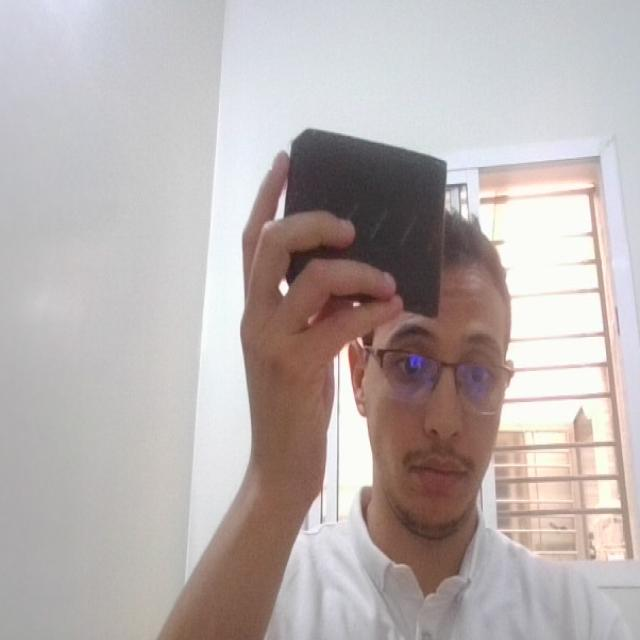wallet: (276, 118, 449, 333)
